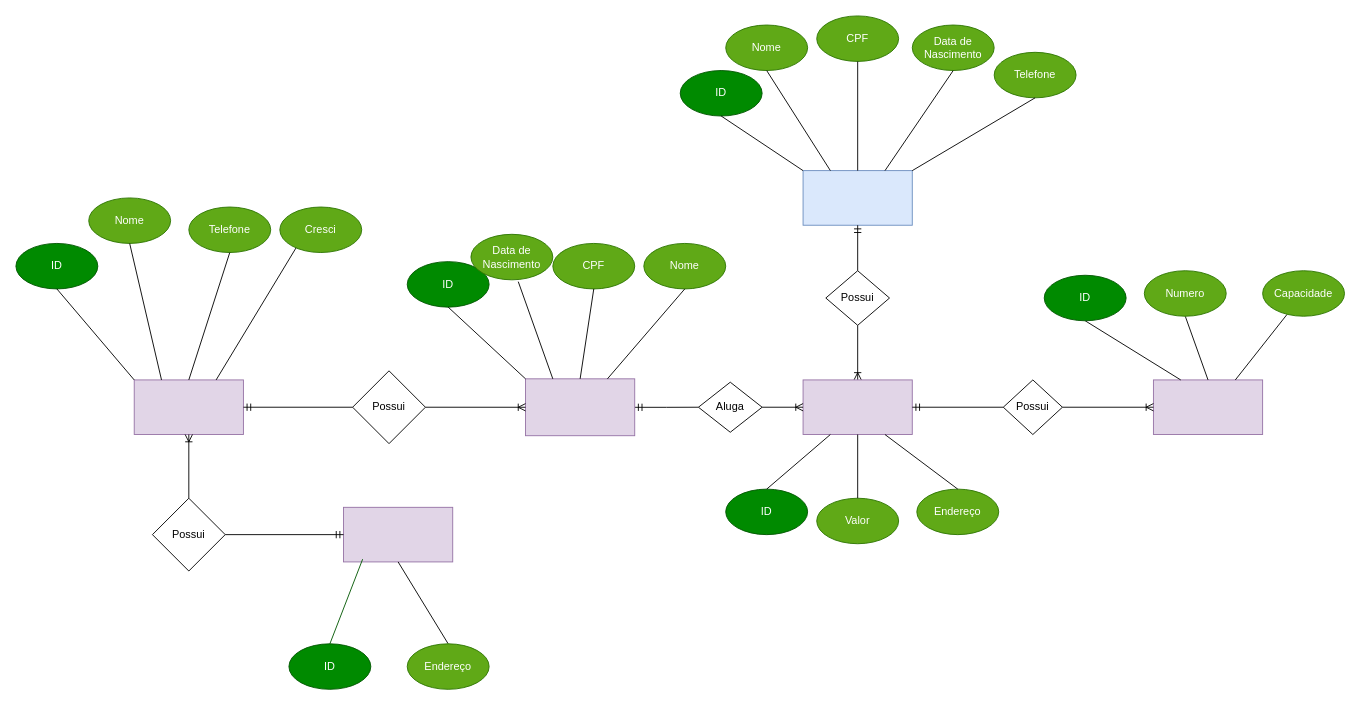
This 1360x705 diagram has some shape labels left out. Each missing label, with the centre of its shape:
"Cliente" goes at [580,407].
"Corretor" goes at [188,407].
"Imobiliaria" goes at [398,534].
"Proprietário" goes at [857,197].
"Quarto" goes at [1208,407].
"Residencia" goes at [857,407].
